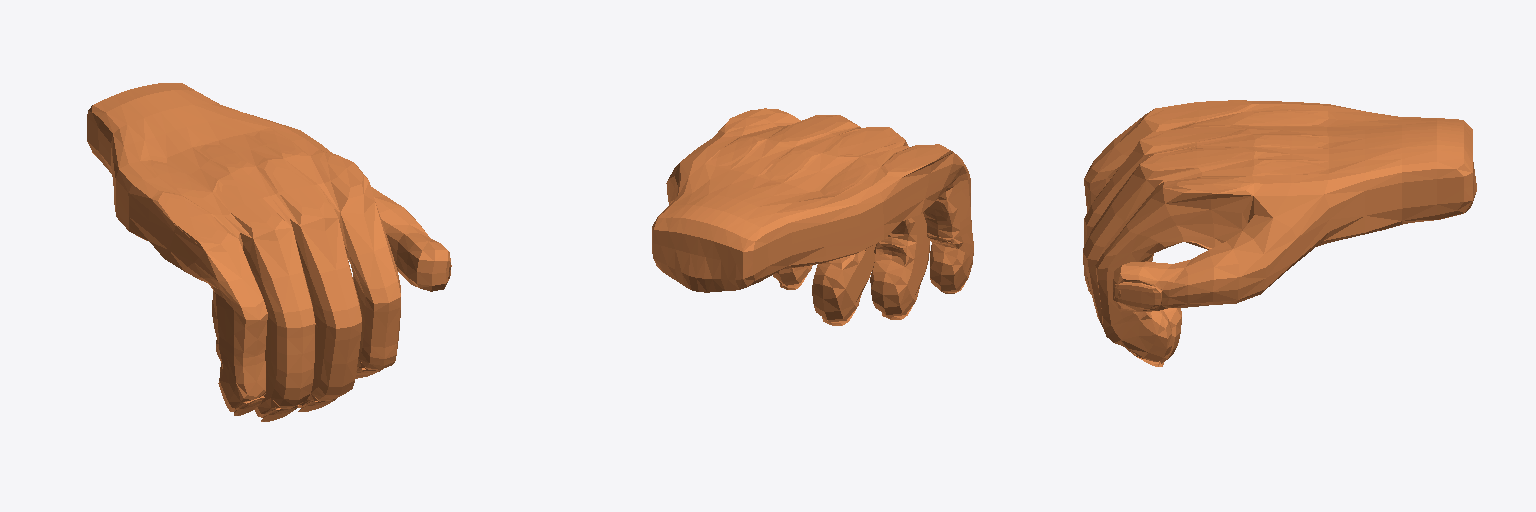
File: hand8.obj
3 views of the same model, side by side, from view 1: azimuth 30°, elevation 25°; view 2: azimuth 150°, elevation 25°; view 3: azimuth 270°, elevation 25° (orthographic).
Visible parts, largest first — view 1: Box001; view 2: Box001; view 3: Box001.
Boxes of the visible parts, x1=… form: Box001: x1=87, y1=83, x2=451, y2=421; Box001: x1=652, y1=108, x2=973, y2=325; Box001: x1=1083, y1=100, x2=1476, y2=366.
Bounding box in the file's own units: 196 × 167 × 270.